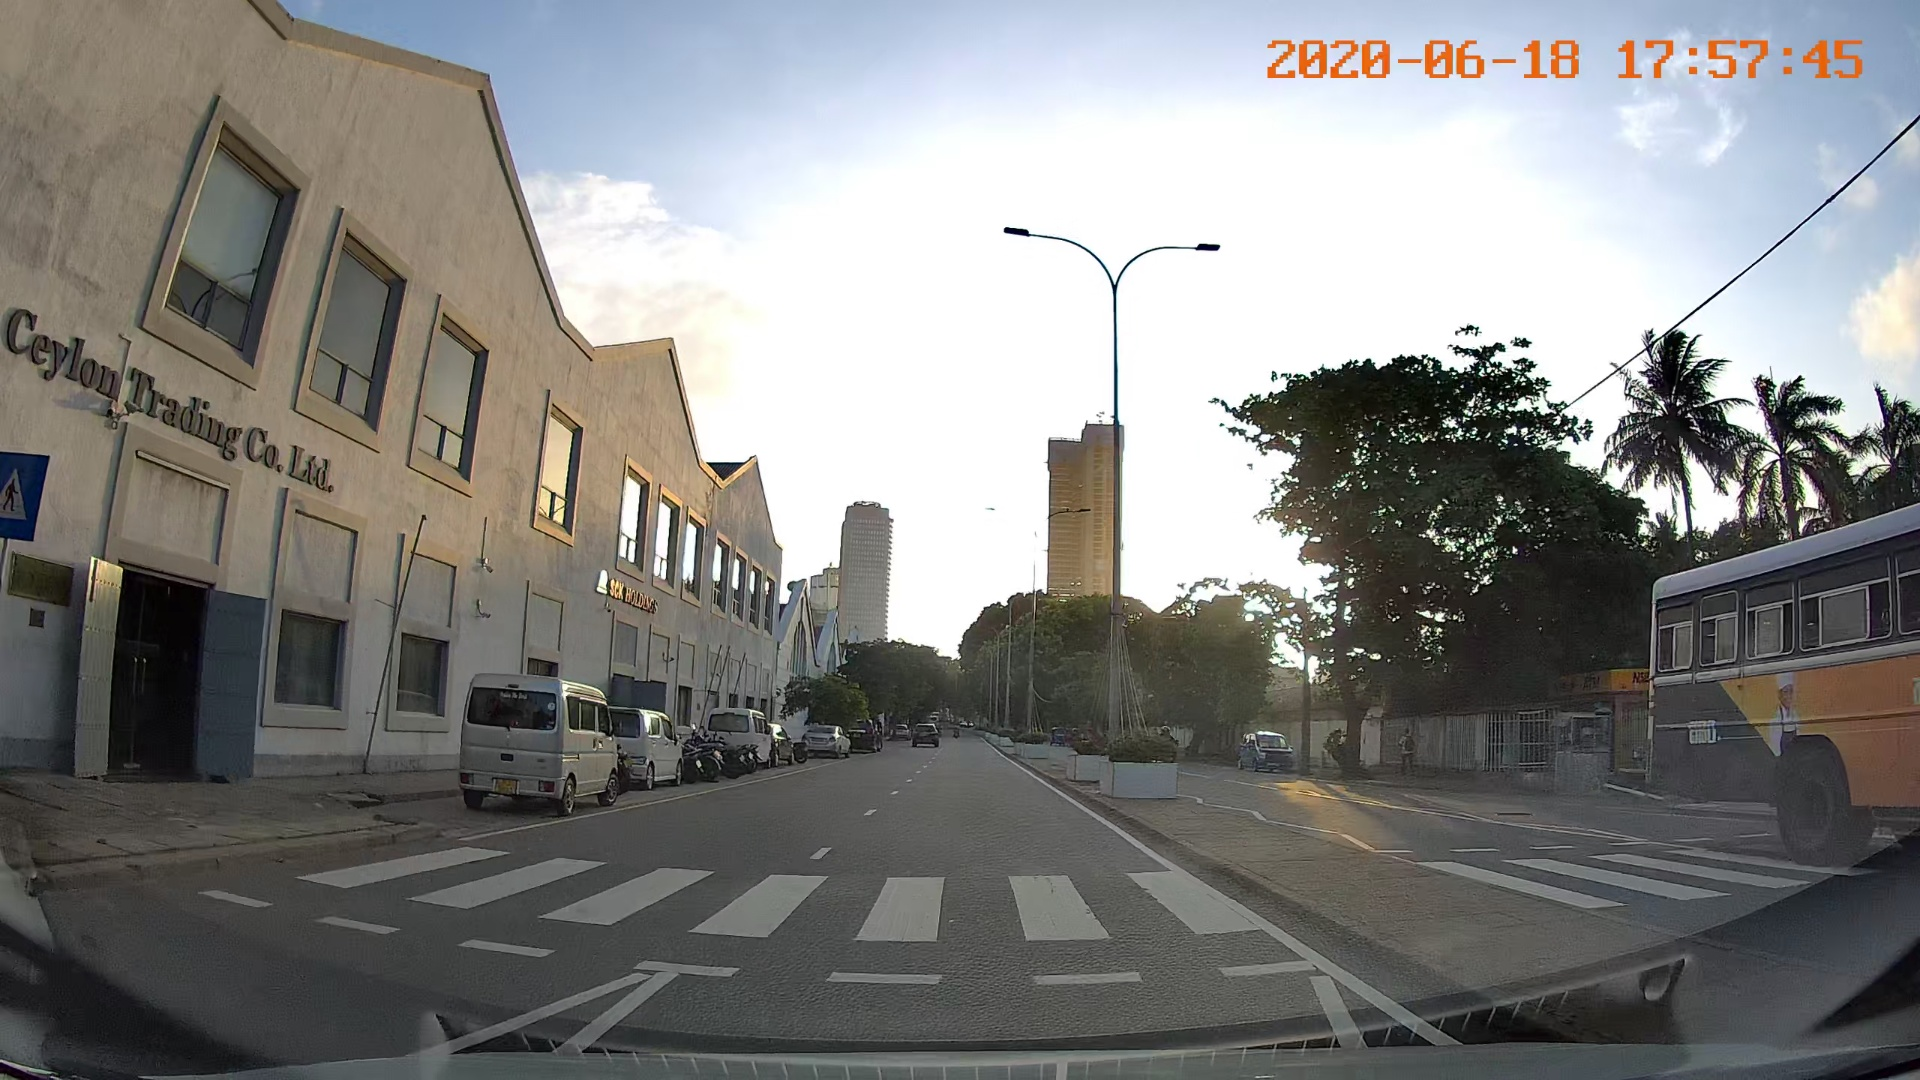crossing: (251, 814, 1259, 985)
